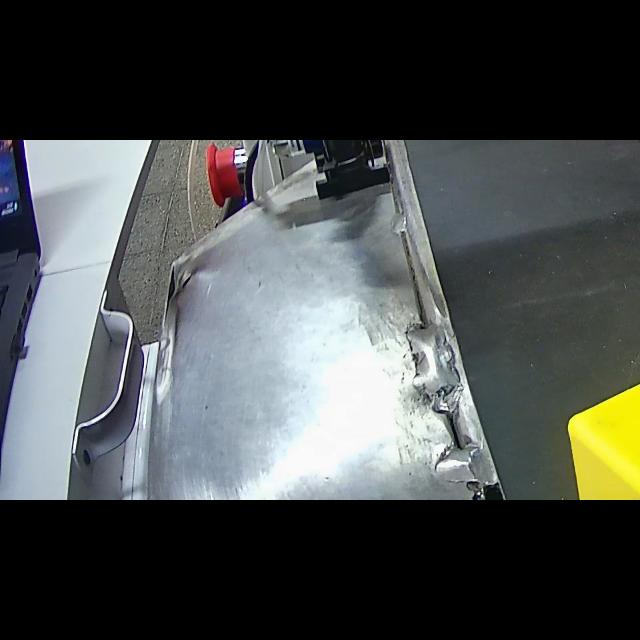yellowBox: (564, 328, 640, 500)
